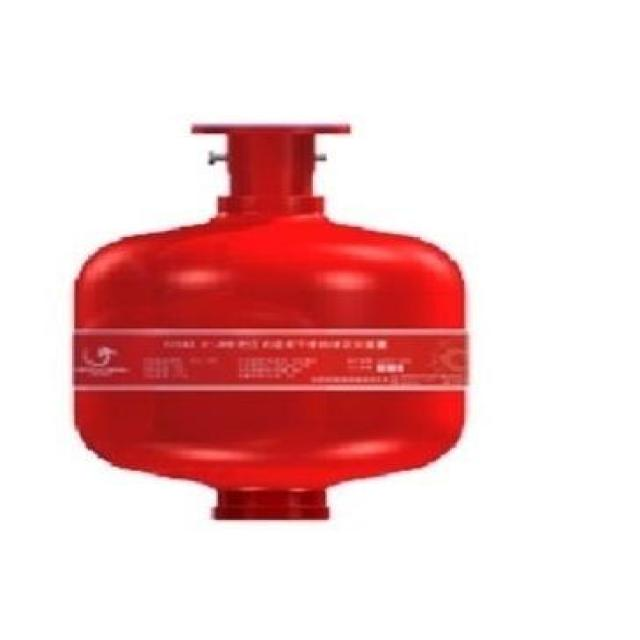fire_extinguisher: (62, 112, 474, 524)
